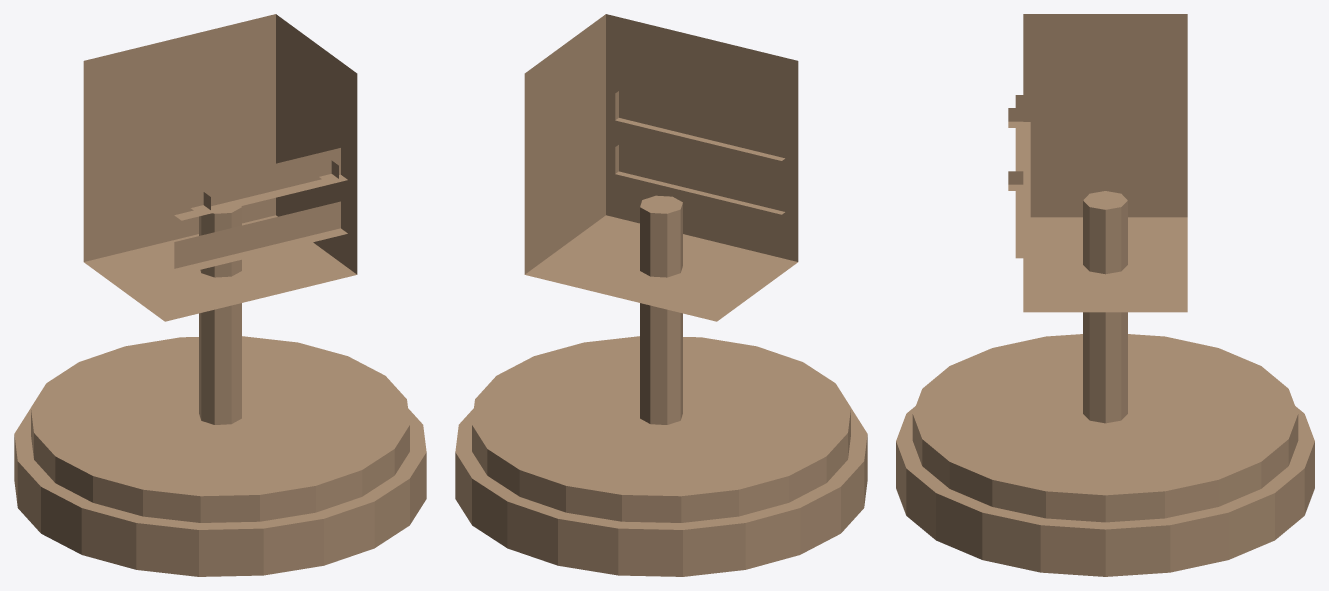
Rendered from armor_suit_leather.glb.
3 renders of one model, left to right at view 1: azimuth 30°, elevation 25°; view 2: azimuth 150°, elevation 25°; view 3: azimuth 270°, elevation 25°, orthographic.
Visible parts, largest first — view 1: ArmorSuitLeather_Node; view 2: ArmorSuitLeather_Node; view 3: ArmorSuitLeather_Node.
Part boxes in pixels (left/top/right/bottom): ArmorSuitLeather_Node: left=14, top=14, right=426, bottom=576; ArmorSuitLeather_Node: left=455, top=14, right=867, bottom=576; ArmorSuitLeather_Node: left=896, top=14, right=1314, bottom=576.
Bounding box in the file's own units: 0.56 × 0.63 × 0.56.
